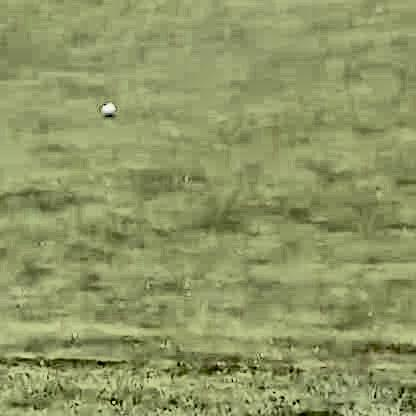golfball: (100, 100, 114, 114)
